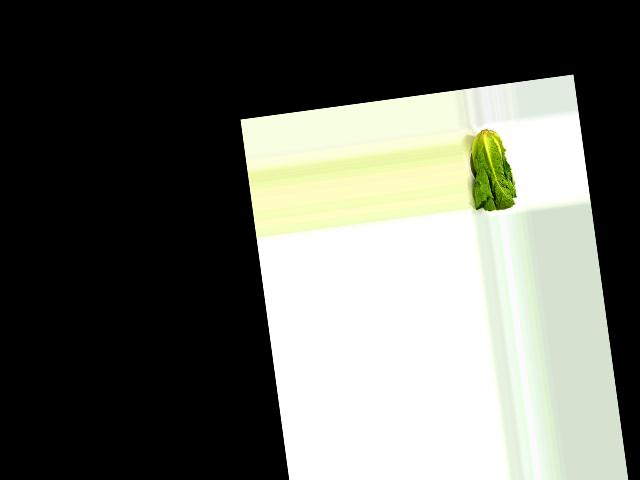lettuce: (463, 125, 519, 213)
